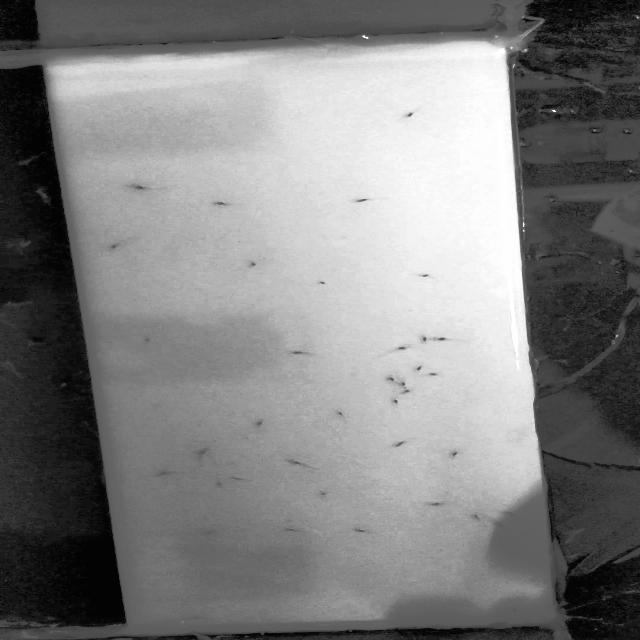shrimp: (383, 106, 433, 124), (124, 179, 152, 198), (229, 474, 264, 487), (189, 444, 219, 459), (347, 525, 381, 538), (345, 195, 378, 207), (275, 524, 305, 537), (130, 332, 162, 344), (330, 404, 351, 422), (423, 369, 450, 383), (152, 468, 183, 480), (213, 197, 239, 211), (192, 525, 220, 538), (247, 417, 272, 431), (303, 276, 332, 288), (284, 457, 310, 470), (284, 347, 314, 358), (500, 508, 526, 520), (101, 242, 132, 252), (244, 257, 265, 271), (394, 342, 416, 355), (382, 398, 413, 407), (442, 448, 463, 461), (415, 332, 434, 345), (310, 490, 336, 499), (408, 363, 429, 374), (386, 438, 409, 448), (186, 613, 209, 623), (417, 270, 435, 282), (437, 333, 452, 346), (469, 511, 484, 523), (492, 521, 511, 530), (428, 499, 445, 508), (506, 606, 525, 614), (393, 381, 415, 386), (382, 374, 397, 381), (398, 388, 415, 394), (212, 479, 224, 487)
